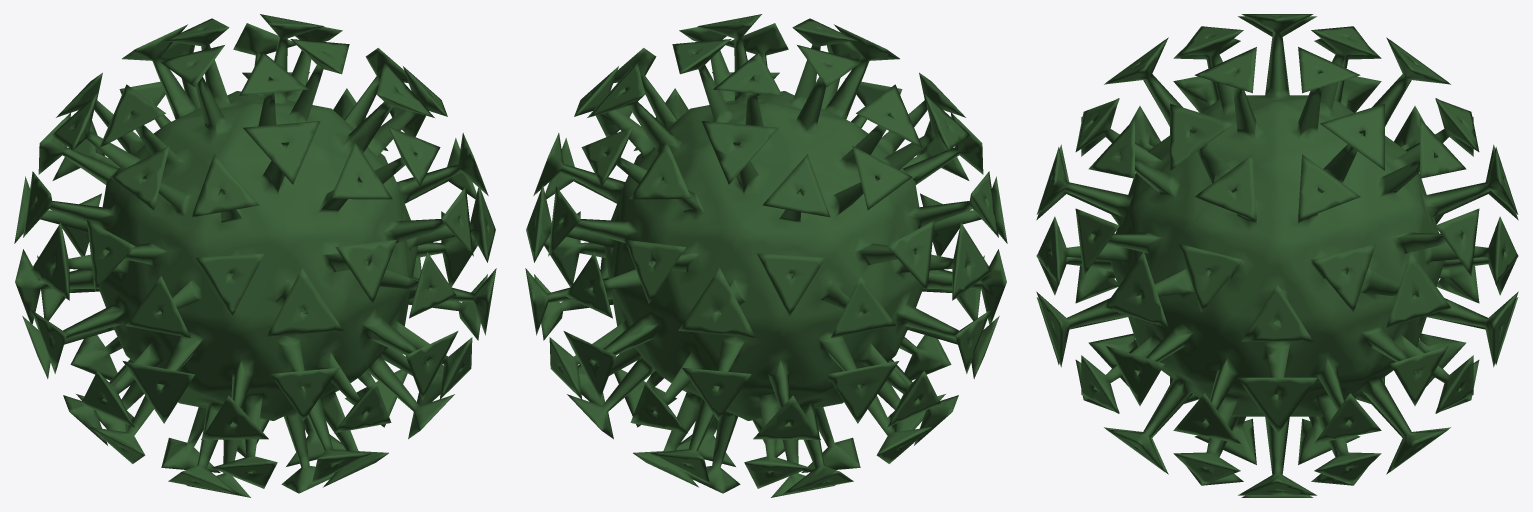
File: virus_vert.fbx
The picture shows the model from 3 angles, left to right: view 1: azimuth 30°, elevation 25°; view 2: azimuth 150°, elevation 25°; view 3: azimuth 270°, elevation 25°; orthographic projection.
Visible parts, largest first — view 1: Icosphere; view 2: Icosphere; view 3: Icosphere.
Part boxes in pixels (x1,y1,x2,y2): Icosphere: [14, 14, 496, 497]; Icosphere: [525, 14, 1007, 497]; Icosphere: [1036, 14, 1518, 497].
Size of the model in its own units: 286 by 289 by 285.
